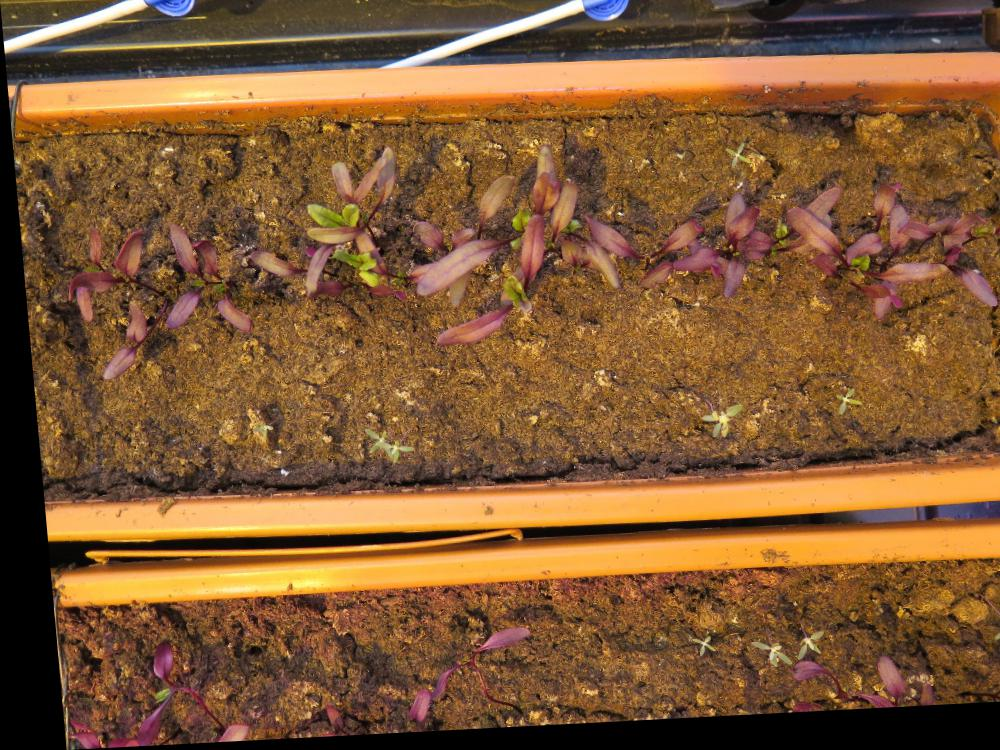weed: (735, 643, 778, 677), (781, 636, 812, 668), (824, 393, 855, 423), (241, 413, 268, 446), (719, 146, 747, 176), (977, 624, 999, 657), (677, 639, 703, 665)
